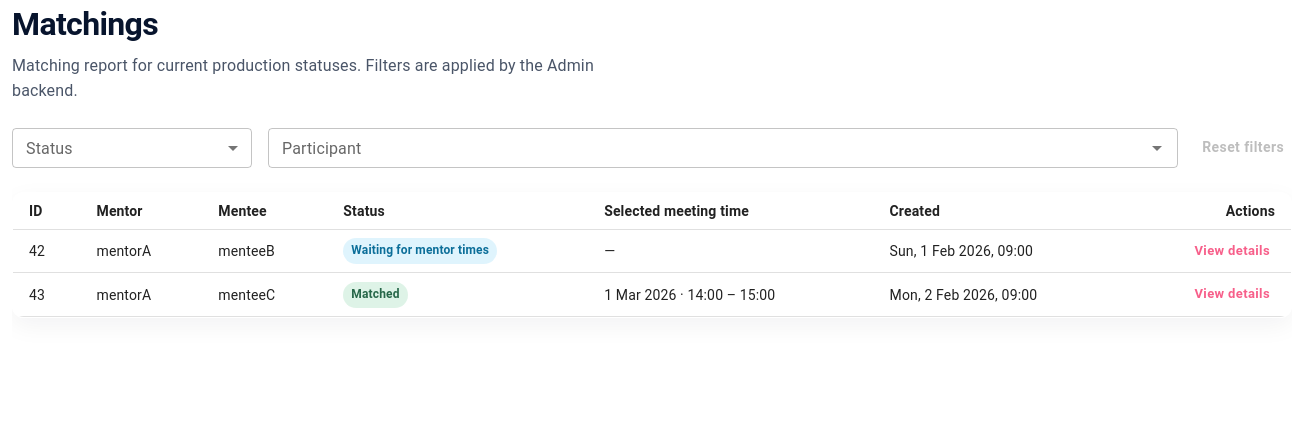
AdminMatchingsPage › shows filtered empty state
Expected: the text "Waiting for mentor times" is shown, top-left (343, 242), bottom-right (497, 260)
Click the dropdown named "Status". click: (132, 148)
box: top-left (12, 128), bottom-right (252, 168)
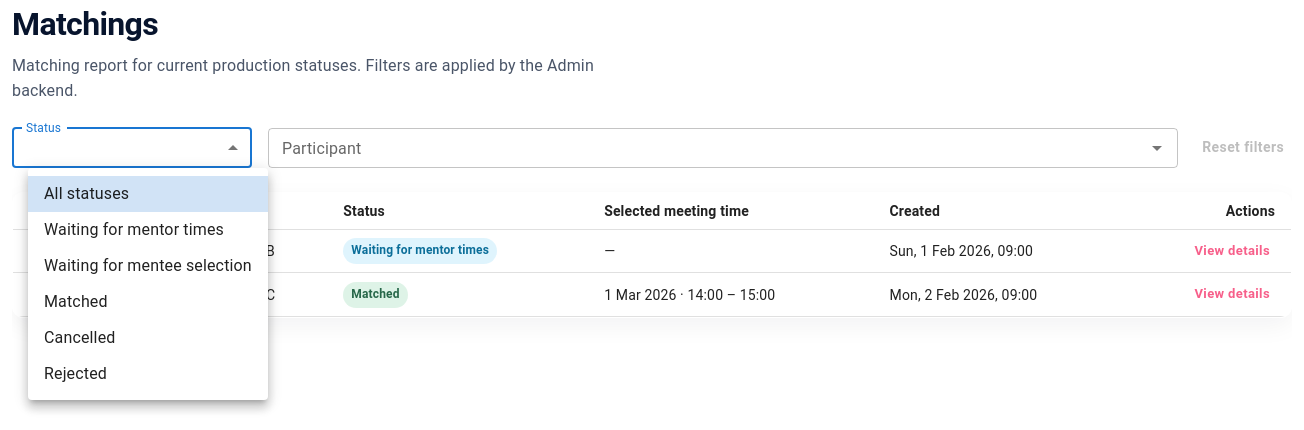
Click the option "Rejected". click: (76, 374)
box: top-left (44, 364), bottom-right (107, 383)
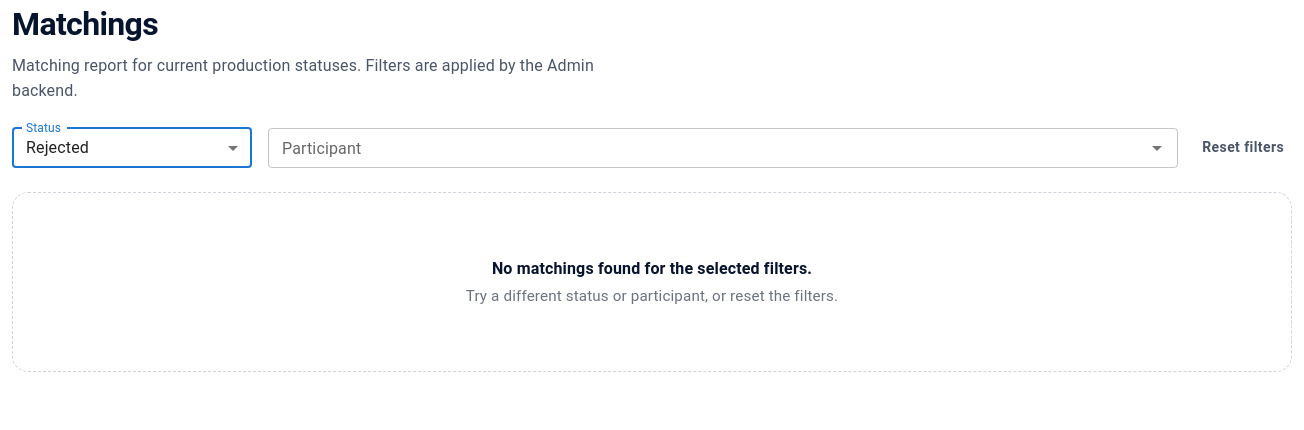
Expected: the text "No matchings found for the selected filters." is shown, top-left (492, 259), bottom-right (812, 278)
